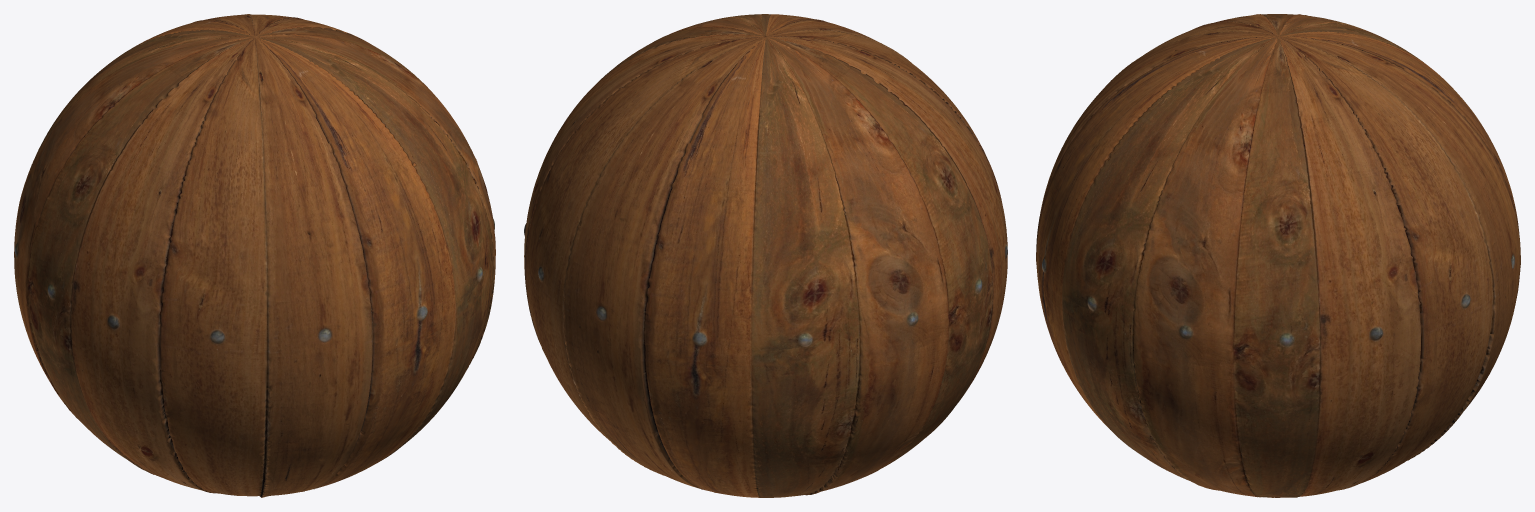
File: wood_shutter_1k.glb
3 views of the same model, side by side, from view 1: azimuth 30°, elevation 25°; view 2: azimuth 150°, elevation 25°; view 3: azimuth 270°, elevation 25° (orthographic).
Visible parts, largest first — view 1: sphere_gltf; view 2: sphere_gltf; view 3: sphere_gltf.
Boxes of the visible parts, x1=… form: sphere_gltf: x1=14, y1=14, x2=495, y2=497; sphere_gltf: x1=524, y1=14, x2=1007, y2=497; sphere_gltf: x1=1036, y1=14, x2=1520, y2=497.
Size of the model in its own units: 1 by 1 by 1.
Materials: 1 (1 with a texture image).
